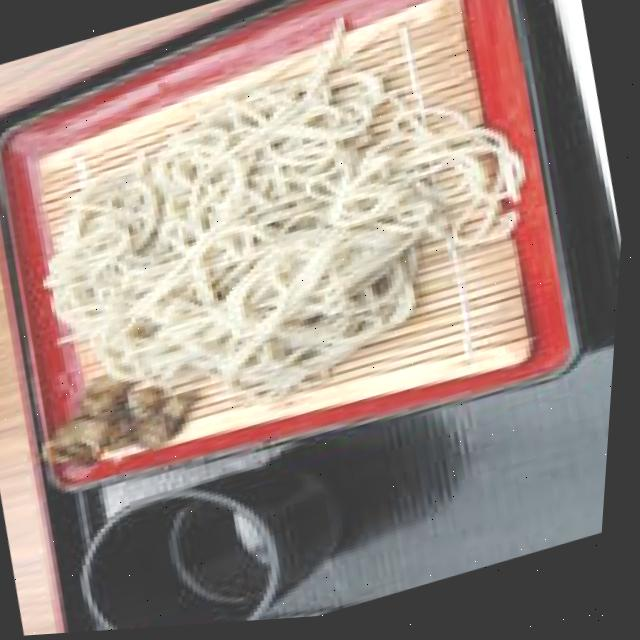面条主食: (2, 0, 629, 360)
